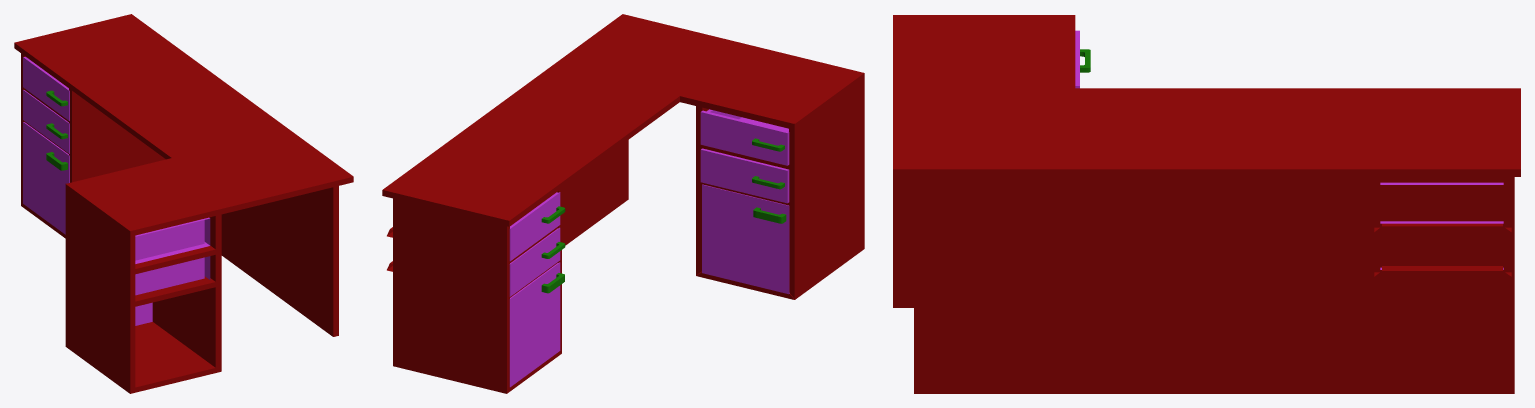
File: Desk.fbx
3 views of the same model, side by side, from view 1: azimuth 30°, elevation 25°; view 2: azimuth 150°, elevation 25°; view 3: azimuth 270°, elevation 25° (orthographic). The views are drawn at different scales.
Parts seen in each view (by area): view 1: Object, Object002, Object021, Object010, Object016, Object008, Tir_012, Object006, Box004, Box003, Box002, Box001 (+4 smaller); view 2: Object, Object012, Object002, Object010, Tir_004, Tir_012, Object021, Box004, Box003, Object004, Box002, Box001 (+1 smaller); view 3: Object021, Object, Object002, Object008, Object024, Object025, Box002.
Part boxes in pixels (x1,y1,x2,y2): Object: (14,14,353,176); Object002: (66,158,353,235); Object021: (221,186,338,336); Object010: (65,184,135,393); Object016: (69,88,165,182); Object008: (152,214,221,371); Tir_012: (23,122,69,234); Object006: (130,322,220,393); Box004: (135,217,210,263); Box003: (135,256,210,295); Box002: (23,56,69,120); Box001: (23,90,69,153); Object: (382,14,679,226); Object012: (393,198,509,393); Object002: (623,14,863,128); Object010: (794,73,864,299); Tir_004: (702,184,789,294); Tir_012: (509,262,564,387); Object021: (562,140,628,245); Box004: (700,109,789,165); Box003: (700,148,789,203); Object004: (696,105,794,298); Box002: (509,192,560,261); Box001: (509,227,560,296); Object021: (914,177,1514,393); Object: (893,88,1520,176); Object002: (893,15,1075,168); Object008: (893,177,913,307); Object024: (1374,266,1511,276); Object025: (1374,223,1511,232); Box002: (1380,182,1503,223).
Bounding box in the file's own units: 108 × 75.4 × 186.
